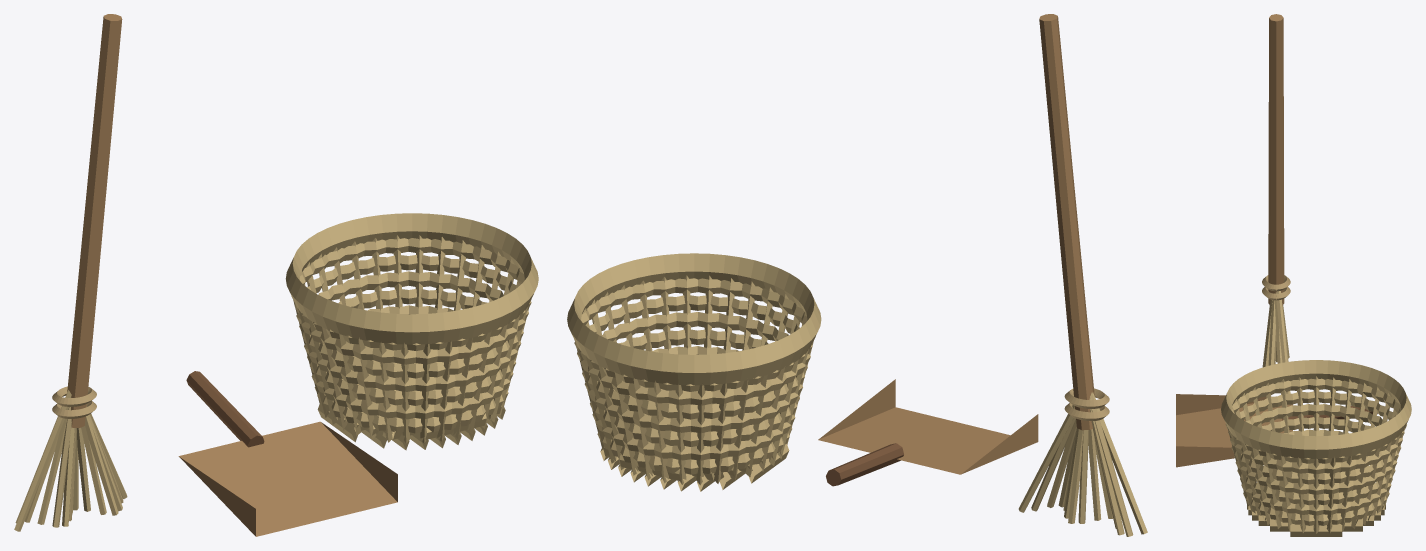
3 views of the same model, side by side, from view 1: azimuth 30°, elevation 25°; view 2: azimuth 150°, elevation 25°; view 3: azimuth 270°, elevation 25° (orthographic). The views are drawn at different scales.
Parts seen in each view (by area): view 1: BA-0067 batched; view 2: BA-0067 batched; view 3: BA-0067 batched.
Part boxes in pixels (left/top/right/bottom): BA-0067 batched: left=14, top=14, right=538, bottom=536; BA-0067 batched: left=567, top=14, right=1147, bottom=536; BA-0067 batched: left=1176, top=14, right=1411, bottom=536.
Bounding box in the file's own units: 1.39 × 1.23 × 0.7058.
